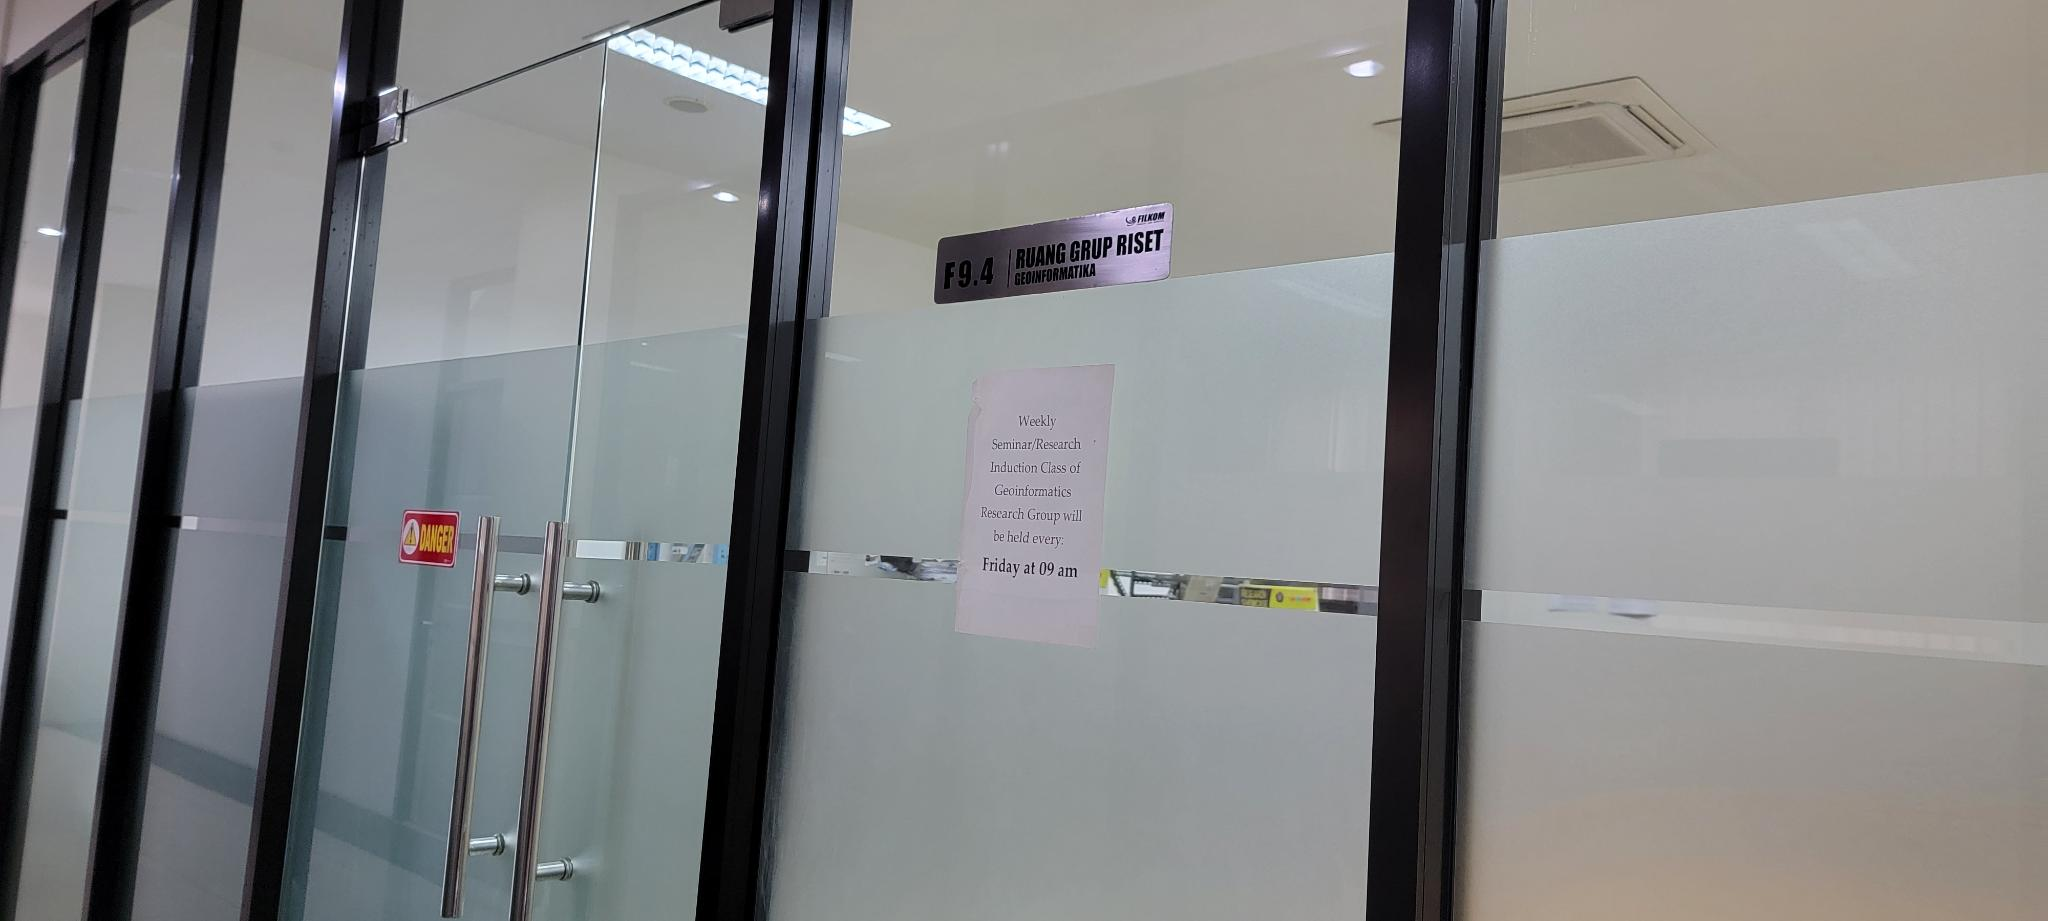plate: (935, 204, 1174, 302)
